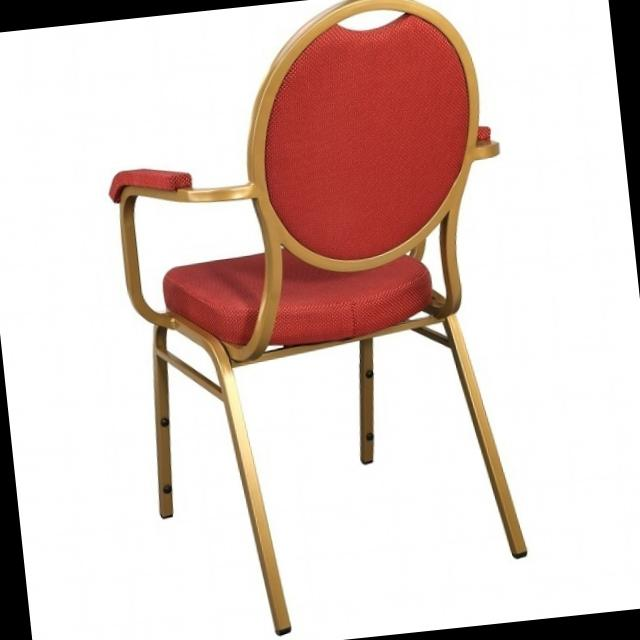Chair: (88, 0, 561, 640)
